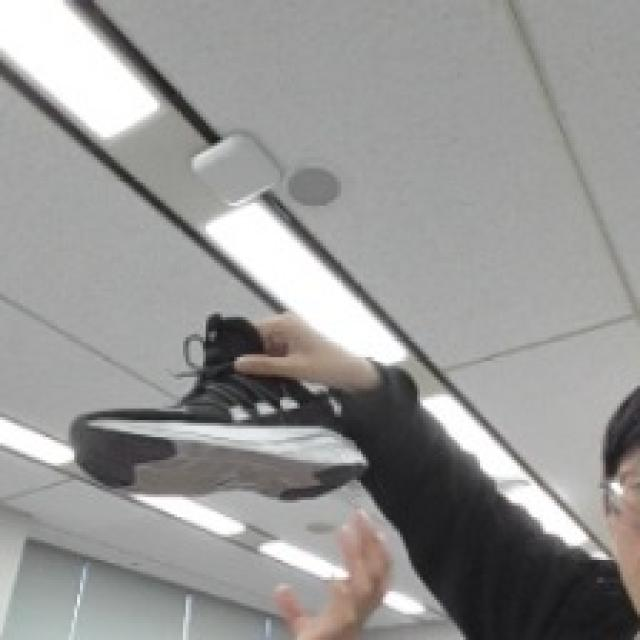shoe: (68, 304, 369, 505)
